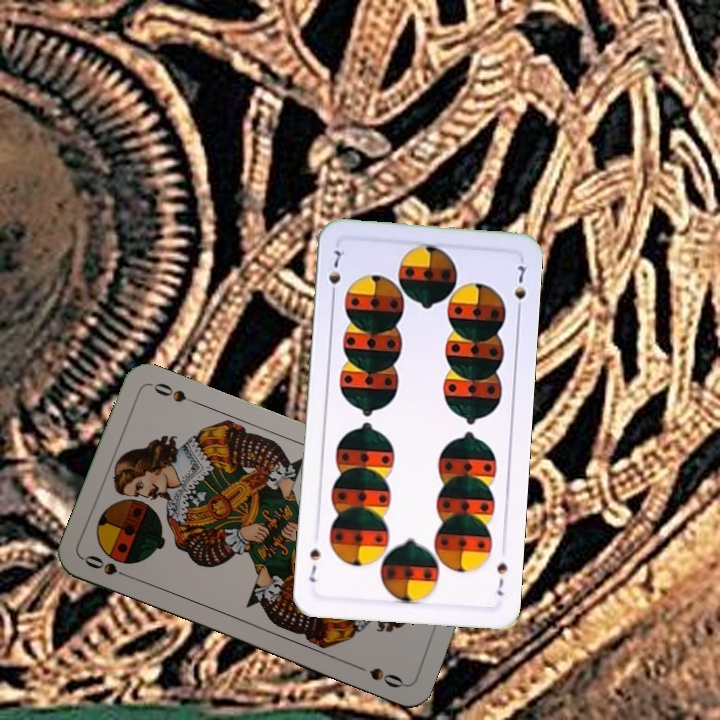S7: (324, 244, 347, 302), (492, 559, 510, 598)
SO: (80, 551, 137, 582)
